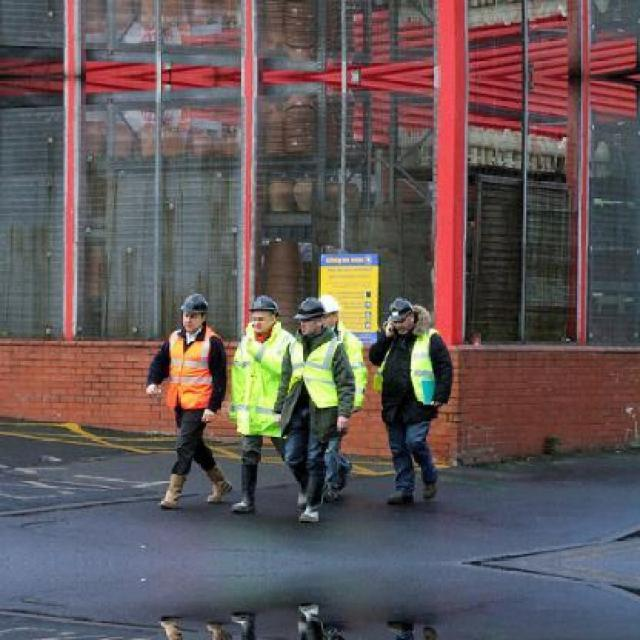reflective_jacket: (228, 323, 297, 441), (374, 327, 448, 415), (297, 329, 368, 415), (160, 326, 220, 416)
safety_helmet: (292, 295, 327, 322), (384, 293, 417, 321), (177, 291, 210, 317), (246, 292, 280, 315)
